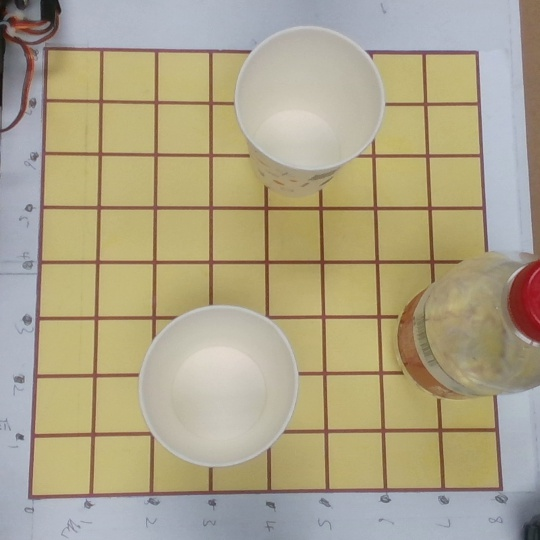bottle: (365, 243, 540, 403)
cup: (209, 25, 385, 202), (133, 303, 302, 471)
